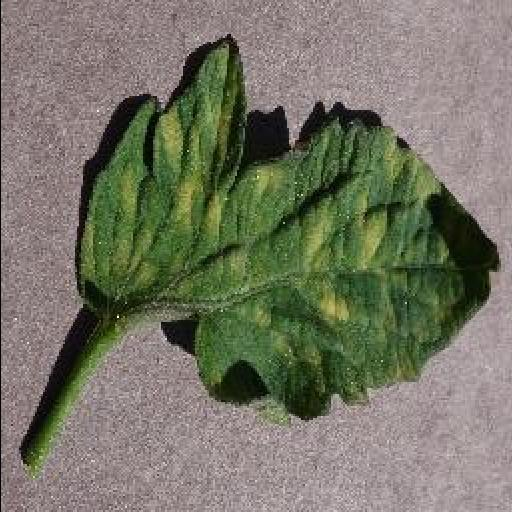disease_tomato: (74, 40, 502, 424)
